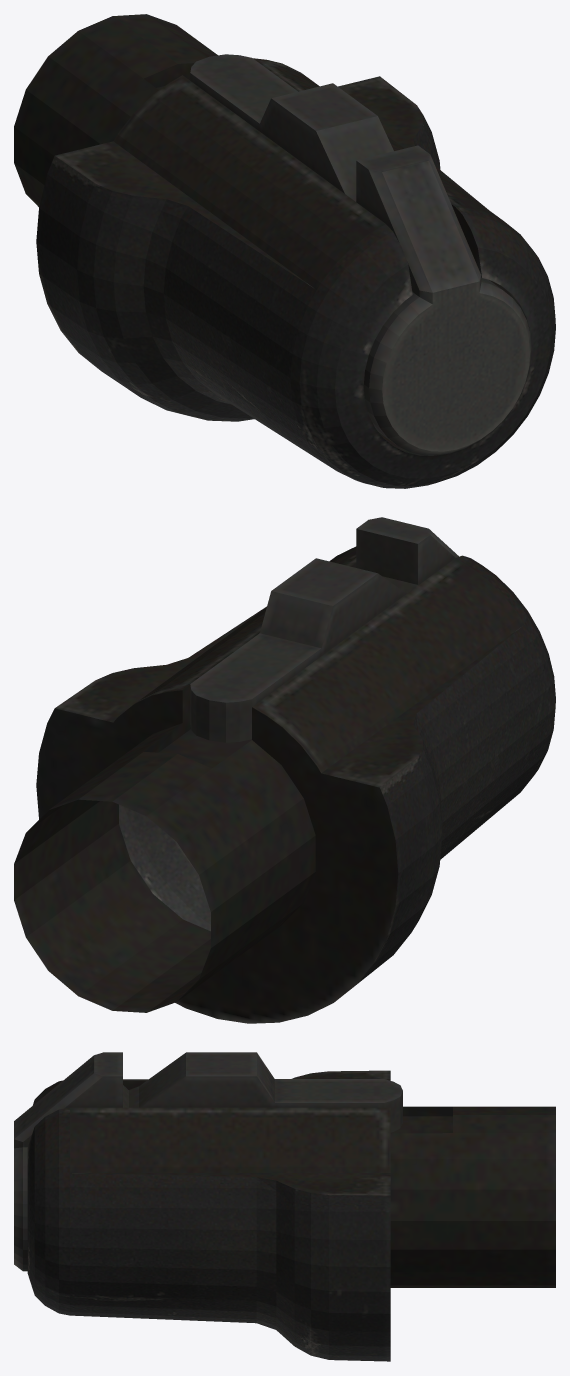
3 views of the same model, one above another, from view 1: azimuth 30°, elevation 25°; view 2: azimuth 150°, elevation 25°; view 3: azimuth 270°, elevation 25° (orthographic). The views are drawn at different scales.
Parts seen in each view (by area): view 1: TW_5bfea6e90db834001b7347f3_PZ_Import; view 2: TW_5bfea6e90db834001b7347f3_PZ_Import; view 3: TW_5bfea6e90db834001b7347f3_PZ_Import.
Part boxes in pixels (x1=…): TW_5bfea6e90db834001b7347f3_PZ_Import: x1=14, y1=14, x2=555, y2=488; TW_5bfea6e90db834001b7347f3_PZ_Import: x1=14, y1=517, x2=555, y2=1023; TW_5bfea6e90db834001b7347f3_PZ_Import: x1=14, y1=1052, x2=555, y2=1361.
Size of the model in its own units: 0.014 by 0.023 by 0.0132.
Materials: 1 (1 with a texture image).
